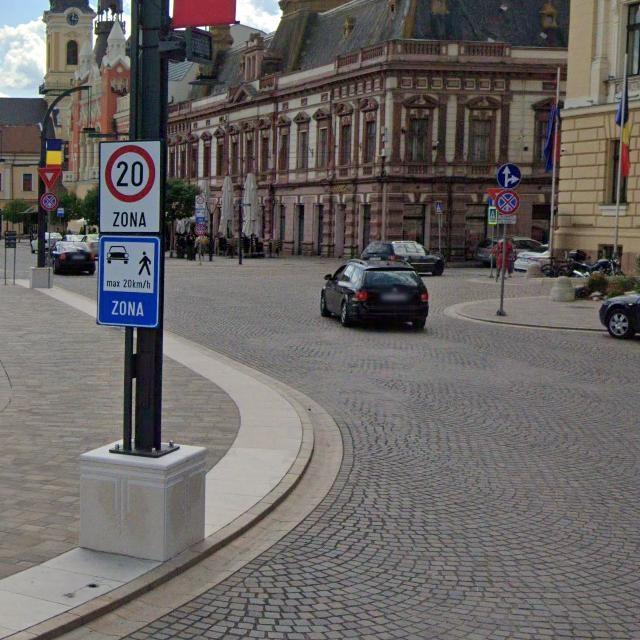forb_speed_over_20: (106, 144, 156, 201)
forb_waiting: (495, 190, 520, 215), (41, 192, 59, 210), (195, 223, 207, 236)
prio_give_way: (38, 166, 62, 191)
